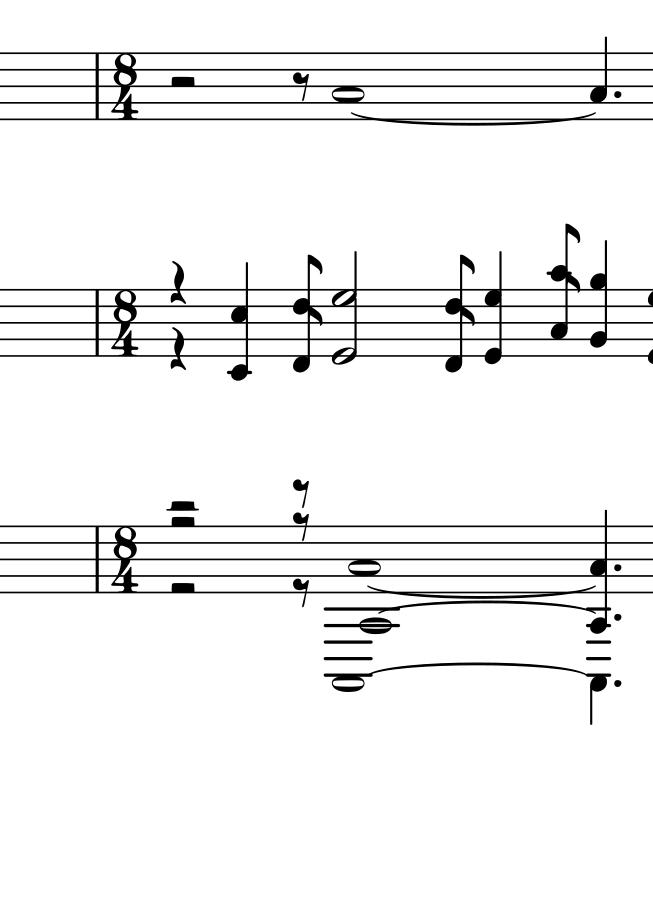1_3: (331, 51, 367, 124), (346, 521, 381, 596)
2_0_7: (331, 251, 360, 365), (484, 251, 505, 365)
4: (109, 559, 141, 593), (110, 87, 142, 118), (111, 324, 141, 355)
4_-2_5: (227, 261, 253, 382)
4_2_9: (589, 239, 610, 358)
4_3: (590, 35, 610, 123)
8: (111, 286, 141, 325), (111, 50, 139, 88), (111, 524, 139, 560)
8_-1_6: (291, 254, 325, 372), (443, 254, 476, 371)
8_3_10: (547, 223, 580, 358)
Rests2: (166, 497, 202, 514), (169, 580, 199, 596), (168, 515, 199, 529), (166, 75, 199, 87)
Rests4: (165, 259, 189, 306), (165, 325, 189, 371)
Rests8: (287, 70, 316, 104), (291, 576, 314, 608), (293, 474, 314, 509), (292, 511, 312, 537)
Single_barline: (89, 525, 106, 594), (89, 289, 106, 355), (89, 53, 106, 119)
Slur: (350, 110, 596, 125), (365, 584, 595, 599), (376, 600, 603, 615), (369, 662, 597, 673)
TimeSig: (108, 52, 143, 119), (111, 288, 142, 358), (110, 527, 142, 594)
dot: (611, 88, 626, 102), (612, 609, 624, 625), (612, 559, 624, 574), (611, 677, 624, 690)
